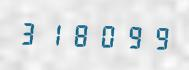eight: (68, 19, 92, 49)
nine: (118, 20, 142, 51), (143, 21, 167, 52)
one: (42, 18, 66, 49)
three: (17, 17, 41, 48)
zero: (93, 19, 117, 50)
